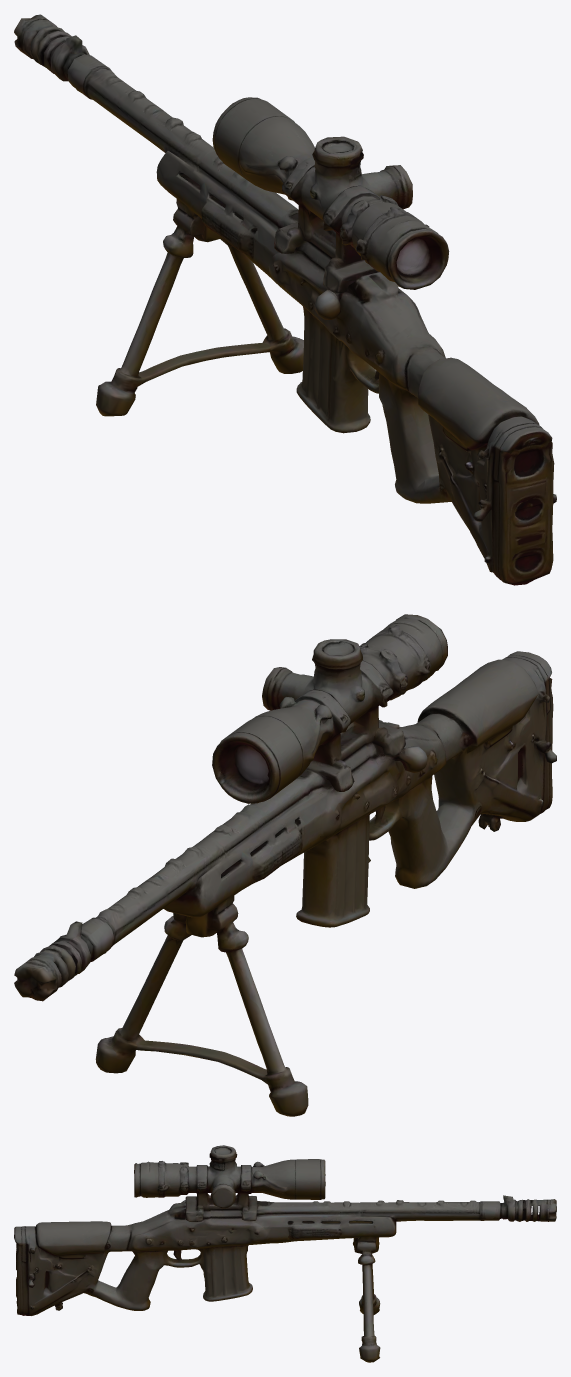
The model's file is rifle.glb.
3 renders of one model, top to bottom at view 1: azimuth 30°, elevation 25°; view 2: azimuth 150°, elevation 25°; view 3: azimuth 270°, elevation 25°, orthographic. The views are drawn at different scales.
Visible parts, largest first — view 1: tripo_node_c8da27fe-5c61-4937-80bb-7dd1ef573ccf; view 2: tripo_node_c8da27fe-5c61-4937-80bb-7dd1ef573ccf; view 3: tripo_node_c8da27fe-5c61-4937-80bb-7dd1ef573ccf.
Boxes of the visible parts, bbox=[...] form: tripo_node_c8da27fe-5c61-4937-80bb-7dd1ef573ccf: bbox=[14, 14, 556, 585]; tripo_node_c8da27fe-5c61-4937-80bb-7dd1ef573ccf: bbox=[14, 614, 556, 1116]; tripo_node_c8da27fe-5c61-4937-80bb-7dd1ef573ccf: bbox=[14, 1145, 556, 1362].
Bounding box in the file's own units: 0.2399 × 0.3786 × 1.
Materials: 1 (1 with a texture image).
